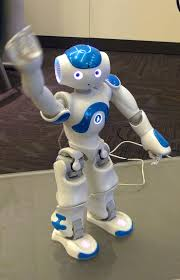nao: (1, 22, 180, 274)
